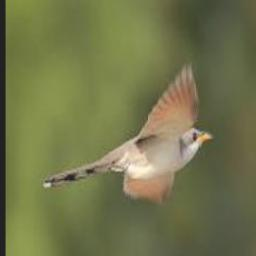Cuckoo: (42, 66, 213, 197)
